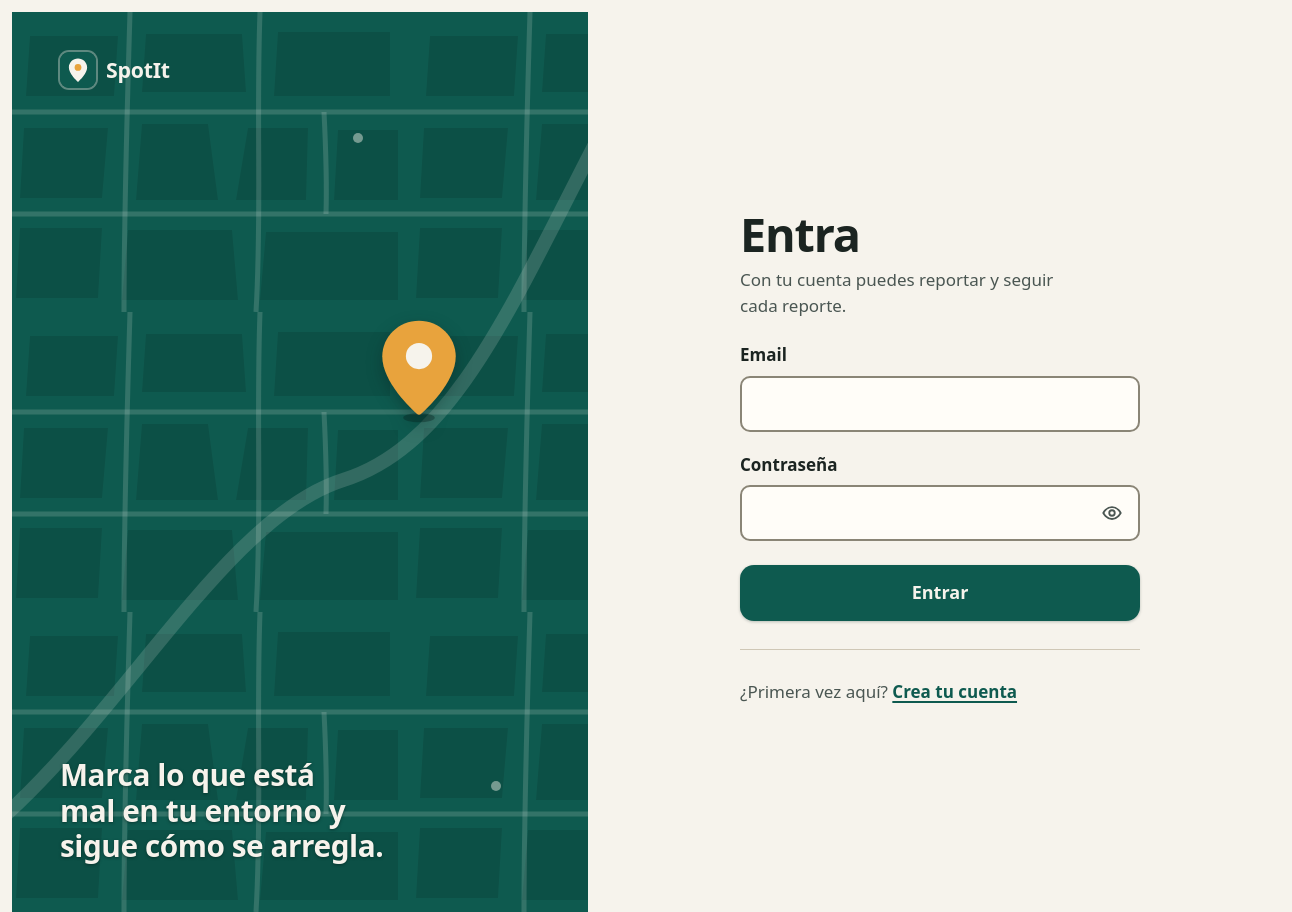
Test: formulario de entrada › al entrar vuelve a la página que pedía sesión
The image size is (1292, 912).
Type "ana@ejemplo.mx" into the field labelled "Email".
click(940, 404); type("ana@ejemplo.mx")  # box [740,376,1140,432]
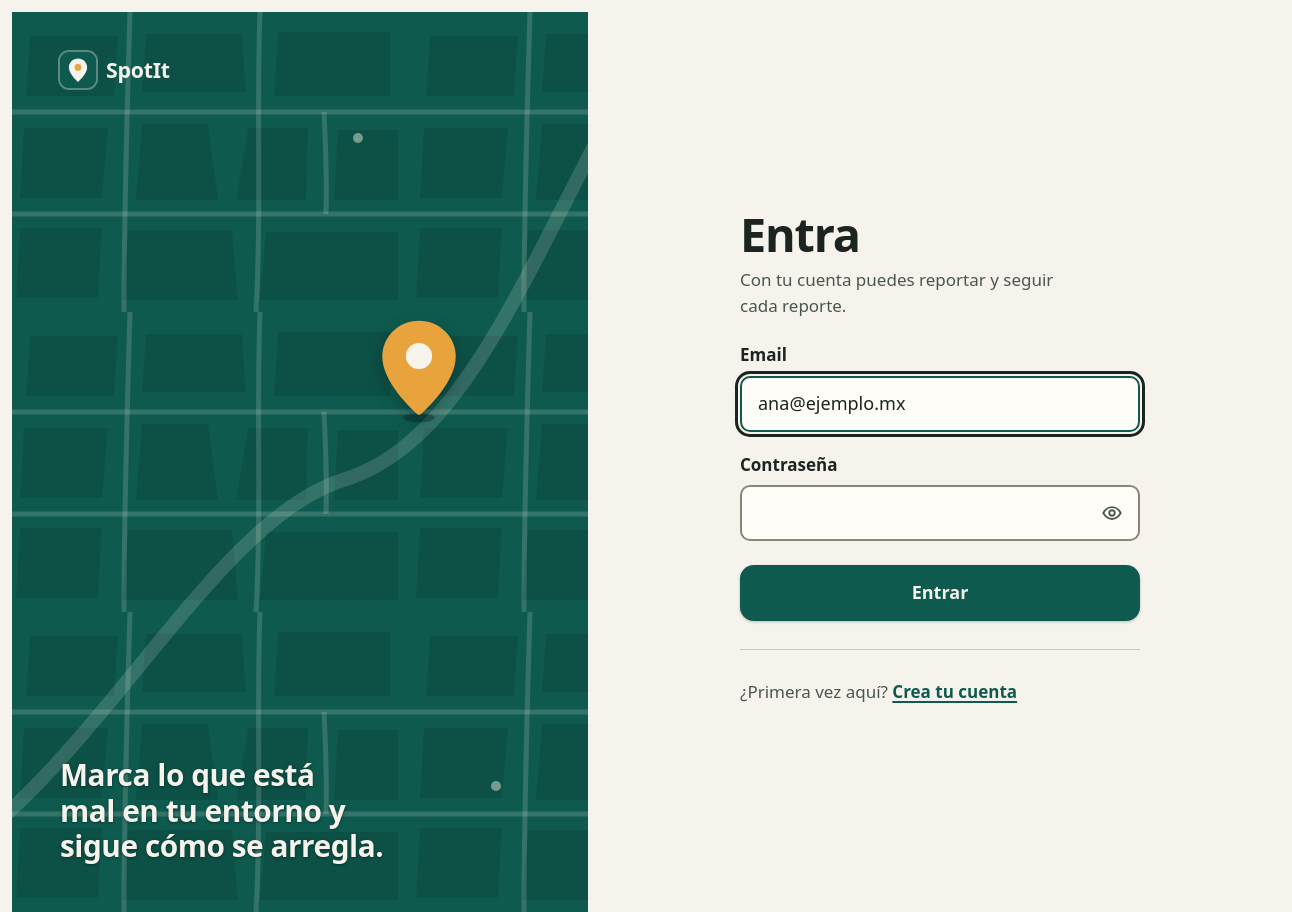
Type "girasol-azul" into the password field labelled "Contraseña".
click(940, 513); type("girasol-azul")  # box [740,485,1140,541]
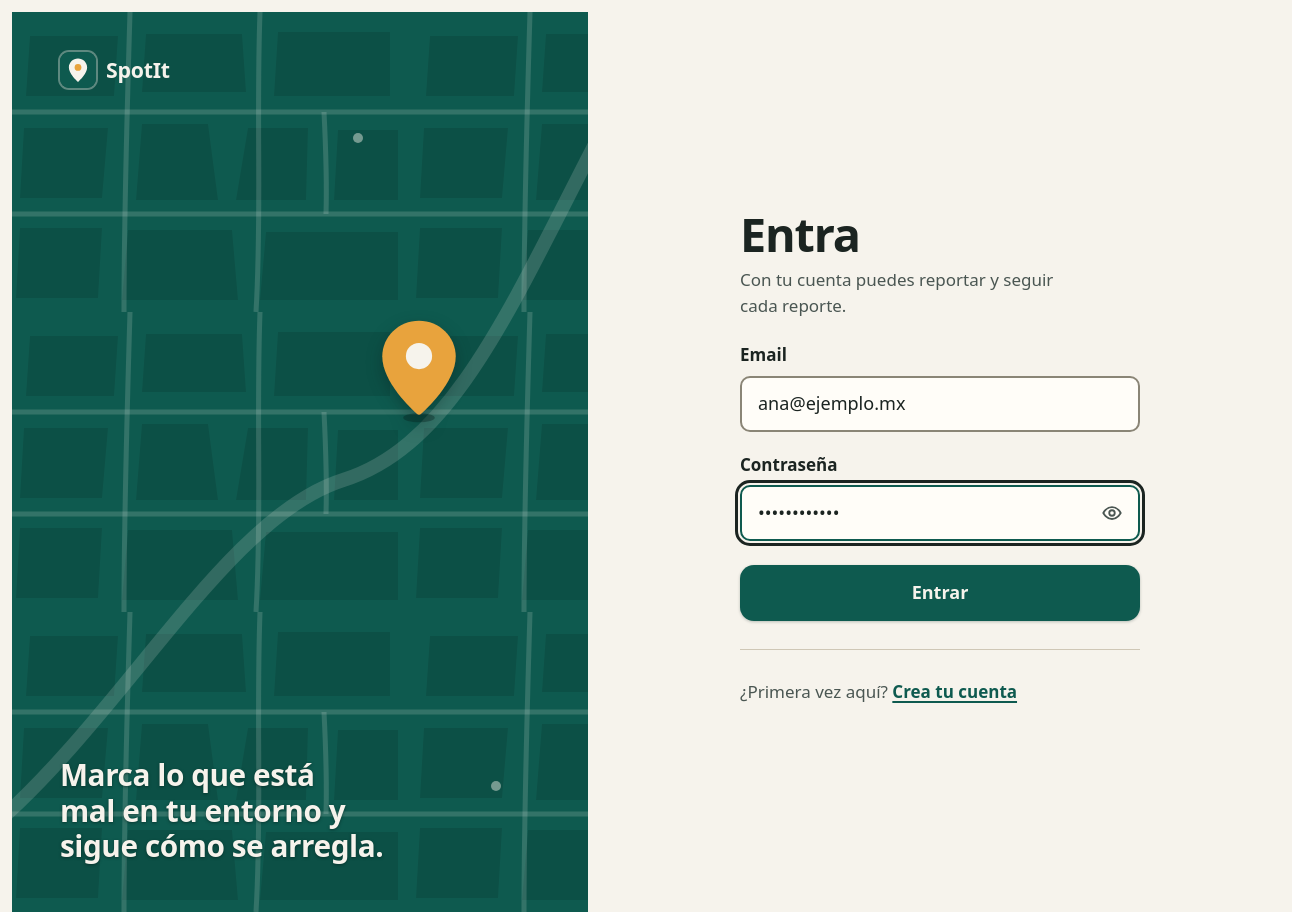
Click the button "Entrar".
click(940, 593)  # box [740,565,1140,621]
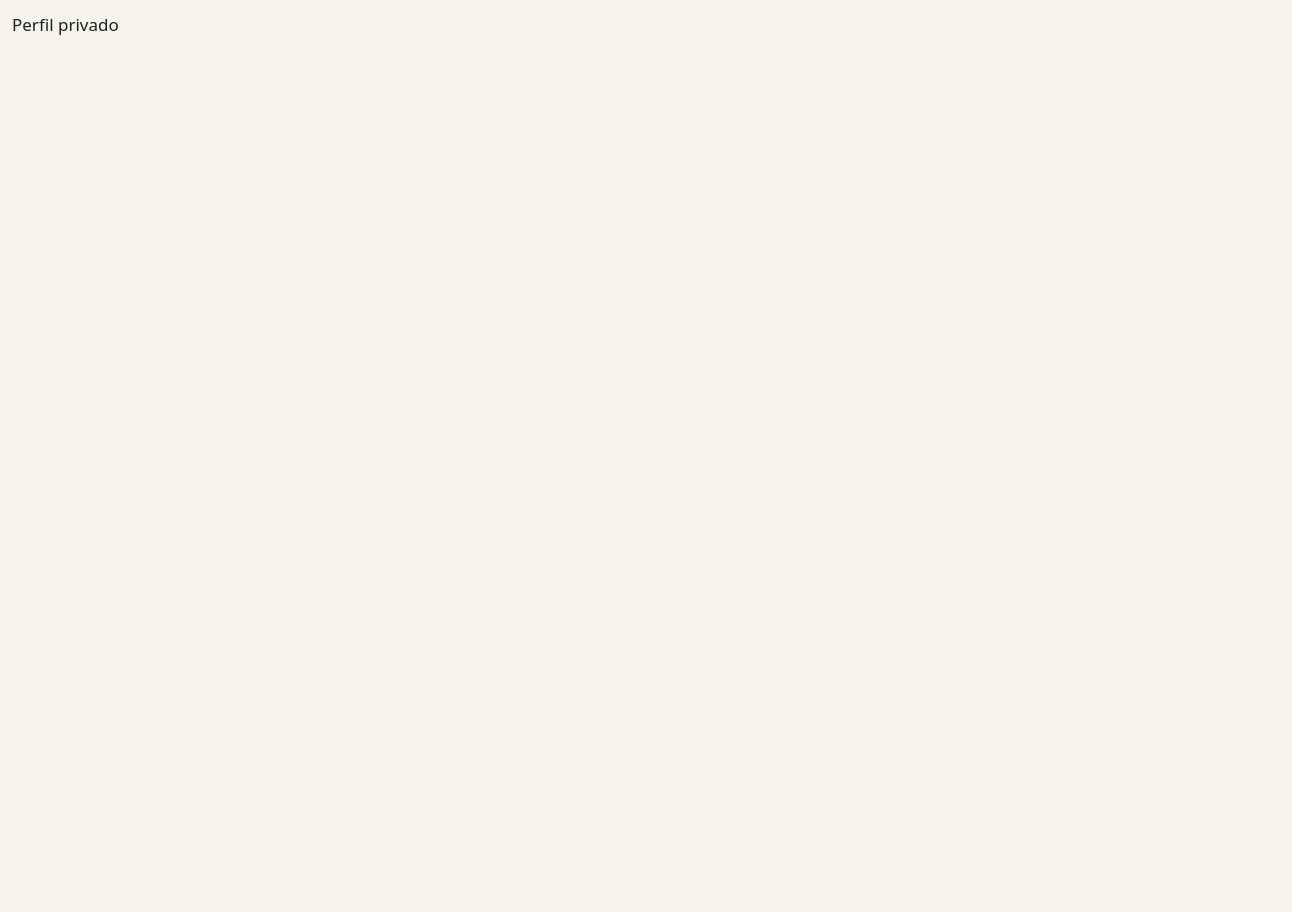
Expected: the text "Perfil privado" is shown, [12,13,119,36]
